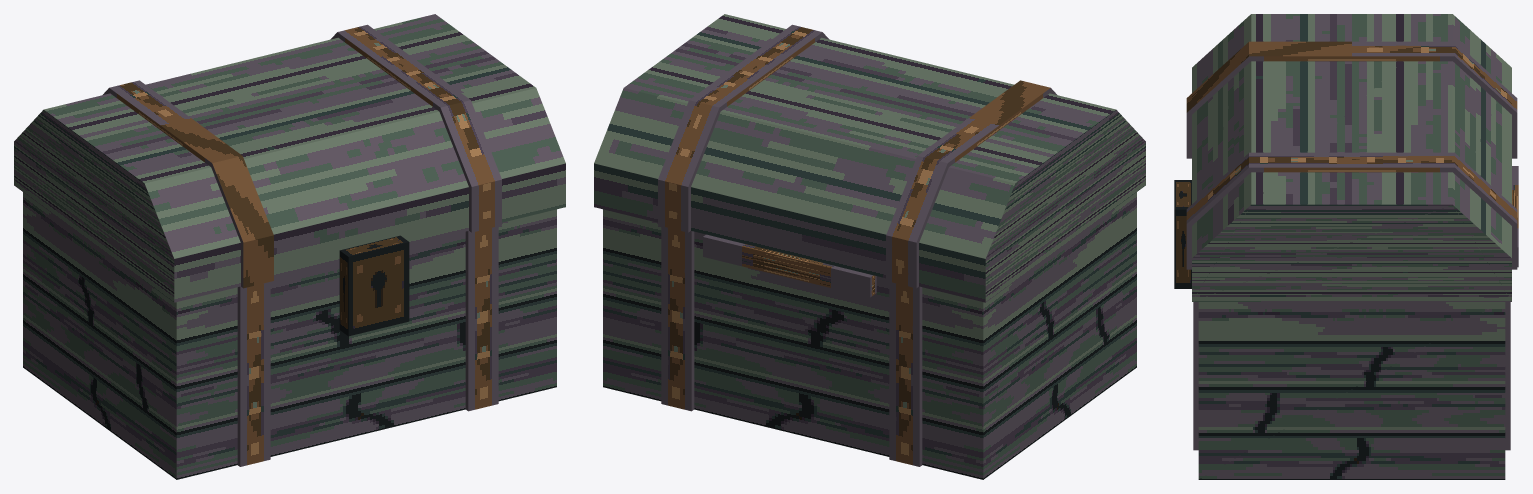
File: chest_beggar.glb
3 views of the same model, side by side, from view 1: azimuth 30°, elevation 25°; view 2: azimuth 150°, elevation 25°; view 3: azimuth 270°, elevation 25° (orthographic).
Parts seen in each view (by area): view 1: lid, base, lock; view 2: lid, base; view 3: lid, base, lock.
Part boxes in pixels (x1=…): lid: x1=14, y1=14, x2=565, y2=302; base: x1=23, y1=192, x2=556, y2=479; lock: x1=339, y1=235, x2=409, y2=336; lid: x1=594, y1=14, x2=1145, y2=302; base: x1=603, y1=192, x2=1136, y2=479; lid: x1=1186, y1=14, x2=1517, y2=301; base: x1=1193, y1=166, x2=1518, y2=479; lock: x1=1174, y1=180, x2=1191, y2=288.
Bounding box in the file's own units: 1.03 × 0.712 × 0.785.
1 material, 1 textured.
